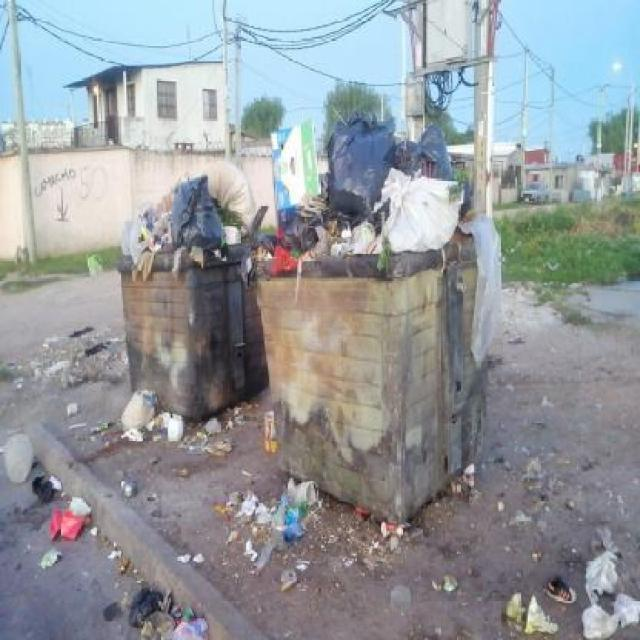garbage: (240, 105, 524, 312), (426, 449, 638, 640), (8, 434, 200, 636), (217, 456, 402, 610), (100, 180, 278, 259), (28, 288, 136, 396), (113, 380, 232, 450), (78, 248, 104, 286)
